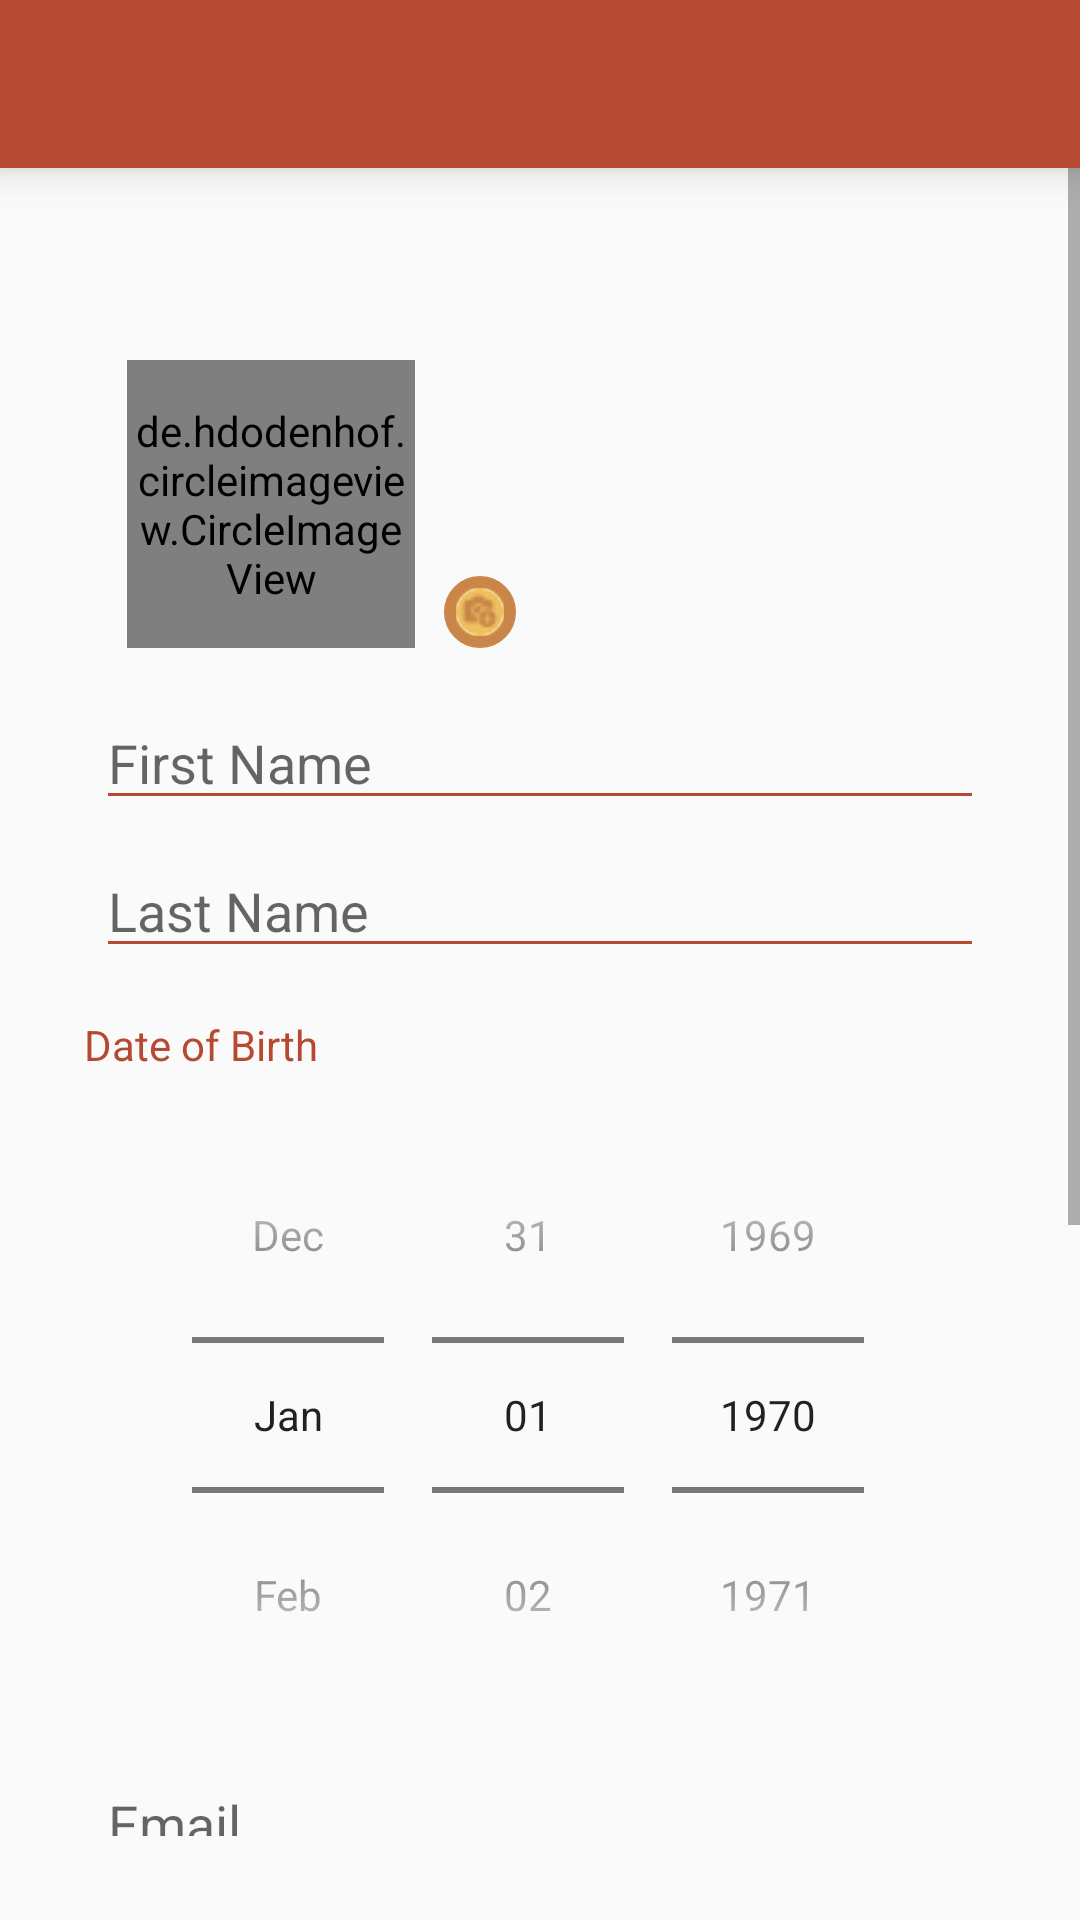

Locate icon controls on the screen. Image size 1080px x 1920px, boxes as (x1, y1, x2, y2).
camera: (444, 576, 516, 648)
